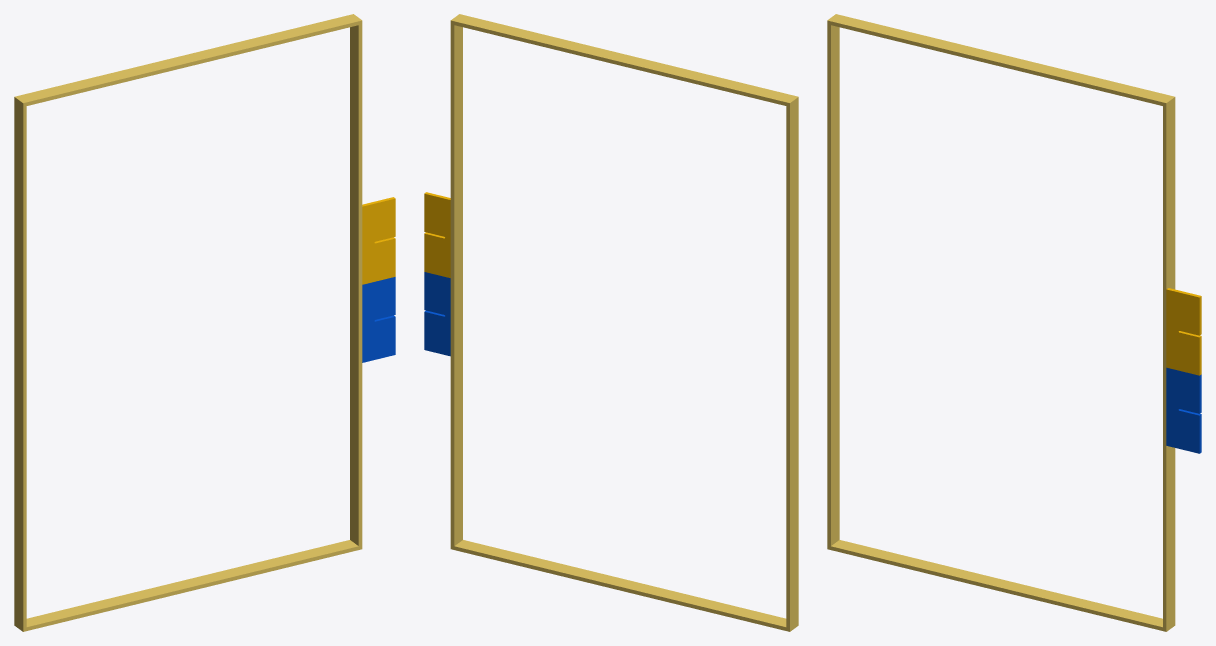
The model's file is table2025.dae.
The picture shows the model from 3 angles, left to right: view 1: azimuth 30°, elevation 25°; view 2: azimuth 150°, elevation 25°; view 3: azimuth 330°, elevation 25°; orthographic projection.
Parts seen in each view (by area): view 1: node0, node2, node1; view 2: node0, node2, node1; view 3: node0, node2, node1.
Boxes of the visible parts, bbox=[...] form: node0: bbox=[14, 14, 362, 631]; node2: bbox=[362, 197, 395, 284]; node1: bbox=[362, 277, 395, 362]; node0: bbox=[450, 14, 798, 631]; node2: bbox=[424, 192, 450, 277]; node1: bbox=[424, 272, 450, 356]; node0: bbox=[827, 14, 1175, 631]; node2: bbox=[1166, 288, 1201, 375]; node1: bbox=[1166, 367, 1201, 453].
Size of the model in its own units: 2244 by 92 by 3044.
